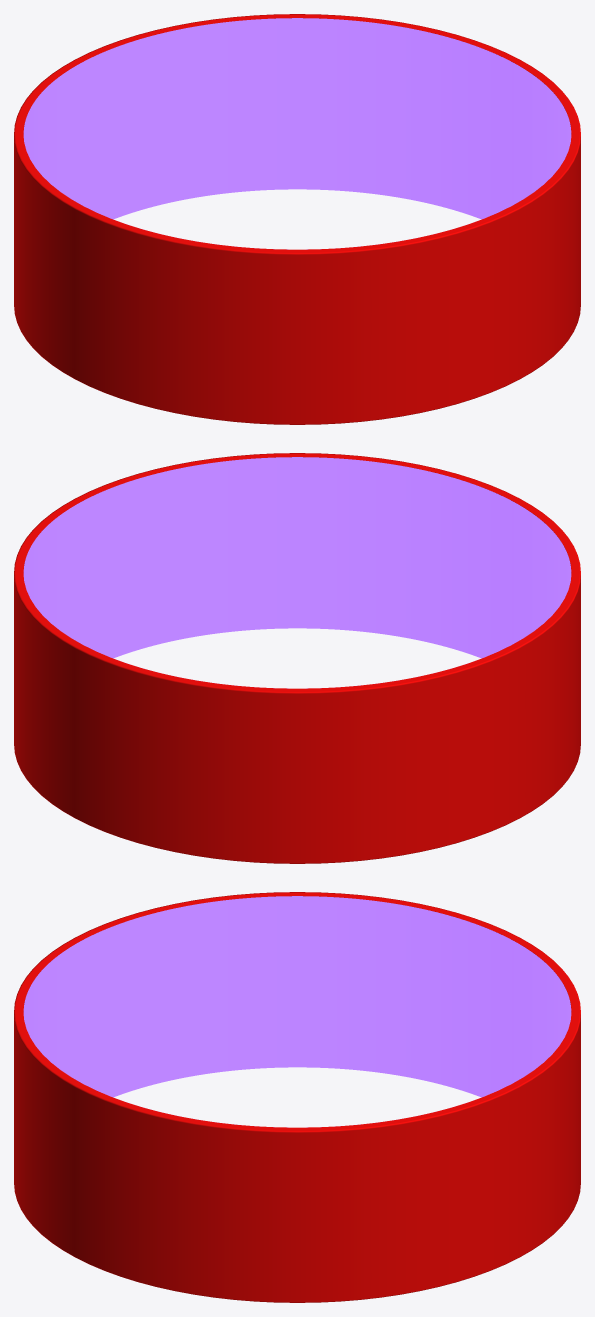
Rendered from Screen V4.fbx.
3 views of the same model, one above another, from view 1: azimuth 30°, elevation 25°; view 2: azimuth 150°, elevation 25°; view 3: azimuth 270°, elevation 25° (orthographic).
Visible parts, largest first — view 1: Screen_Outer, Screen_Inner; view 2: Screen_Outer, Screen_Inner; view 3: Screen_Outer, Screen_Inner.
Boxes of the visible parts, x1,y1,x2,y2 form: Screen_Outer: [14, 14, 580, 424]; Screen_Inner: [23, 18, 571, 249]; Screen_Outer: [14, 453, 580, 863]; Screen_Inner: [23, 457, 571, 688]; Screen_Outer: [14, 892, 580, 1302]; Screen_Inner: [23, 896, 571, 1127].
Size of the model in its own units: 600 by 200 by 600.
